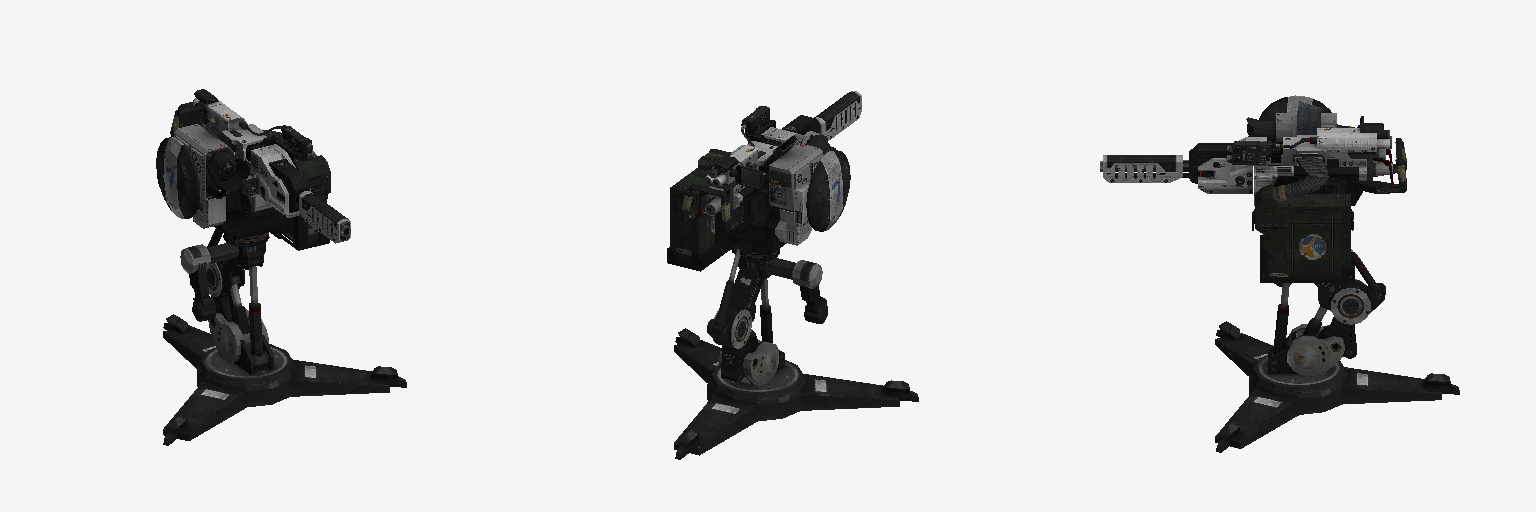
3 views of the same model, side by side, from view 1: azimuth 30°, elevation 25°; view 2: azimuth 150°, elevation 25°; view 3: azimuth 270°, elevation 25° (orthographic).
Parts seen in each view (by area): view 1: sentrygun, sentryguntripod; view 2: sentrygun, sentryguntripod; view 3: sentrygun, sentryguntripod.
Boxes of the visible parts, box(x1,y1,x2,y2) form: sentrygun: box(156, 89, 350, 250); sentryguntripod: box(163, 228, 406, 445); sentrygun: box(667, 91, 861, 271); sentryguntripod: box(674, 249, 918, 459); sentrygun: box(1100, 95, 1406, 282); sentryguntripod: box(1215, 249, 1459, 452).
Bounding box in the file's own units: 2.81 × 3.03 × 3.59.
Materials: 2 (2 with a texture image).